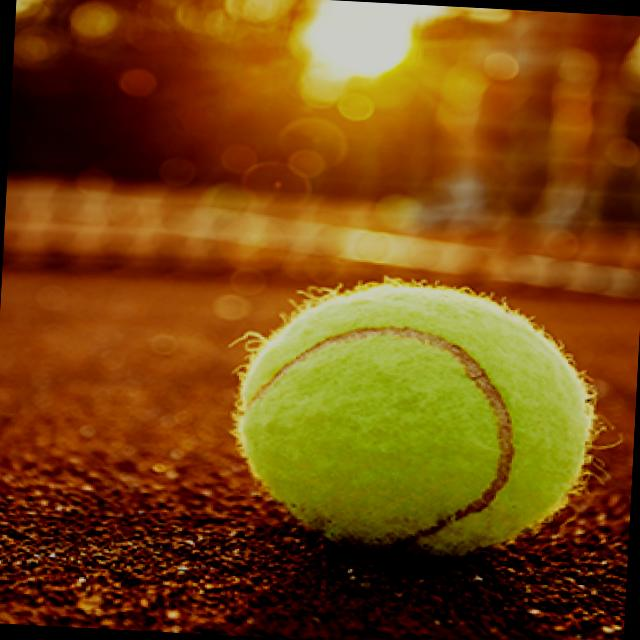Tennis Ball: (240, 284, 592, 559)
